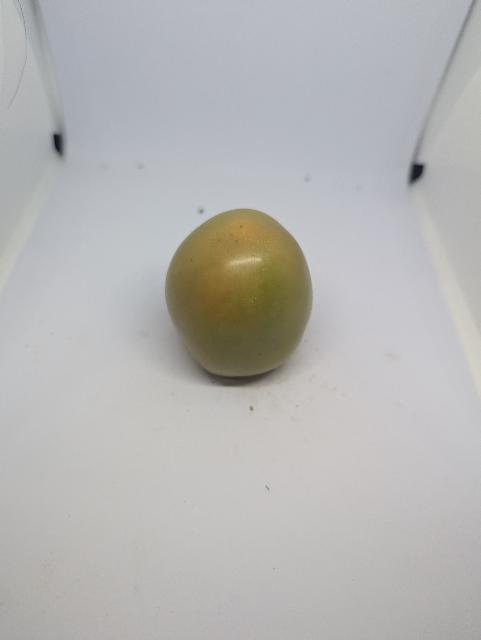breaker: (163, 205, 314, 384)
